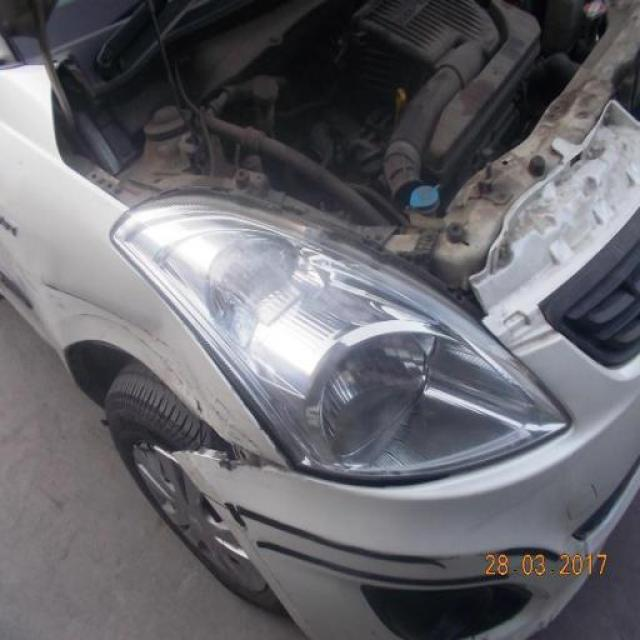scratch: (45, 274, 274, 452)
tear: (175, 401, 300, 477)
